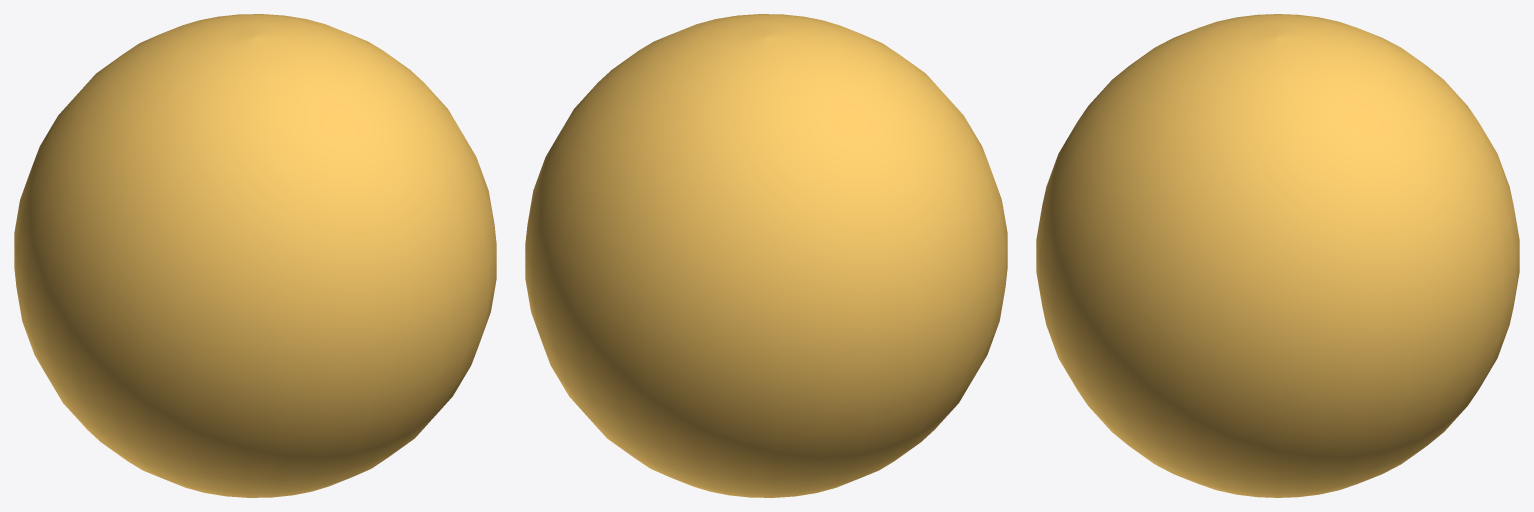
File: gold-sphere.glb
The picture shows the model from 3 angles, left to right: view 1: azimuth 30°, elevation 25°; view 2: azimuth 150°, elevation 25°; view 3: azimuth 270°, elevation 25°; orthographic projection.
Parts seen in each view (by area): view 1: SurfSphere; view 2: SurfSphere; view 3: SurfSphere.
Boxes of the visible parts, <box> form: SurfSphere: <box>14,14,496,497</box>; SurfSphere: <box>525,14,1007,497</box>; SurfSphere: <box>1036,14,1519,497</box>.
Bounding box in the file's own units: 1.99 × 2 × 1.99.
Materials: 1 (1 with a texture image).
